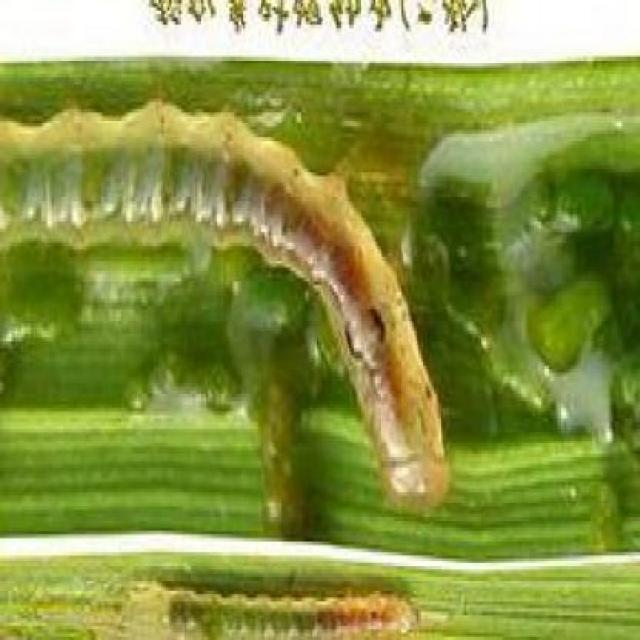leaf-folder: (0, 87, 455, 510), (118, 544, 446, 640)
